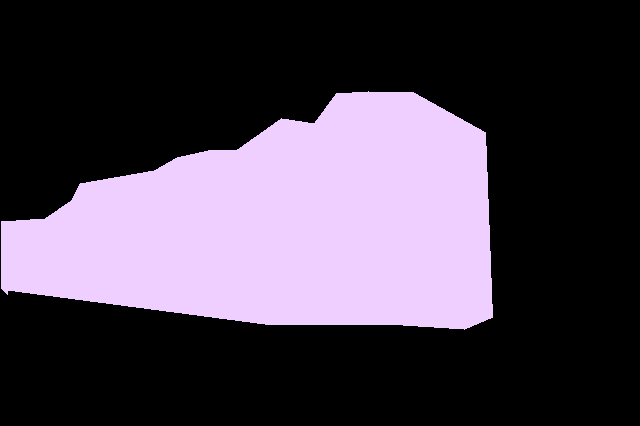Train: (1, 91, 492, 329)
